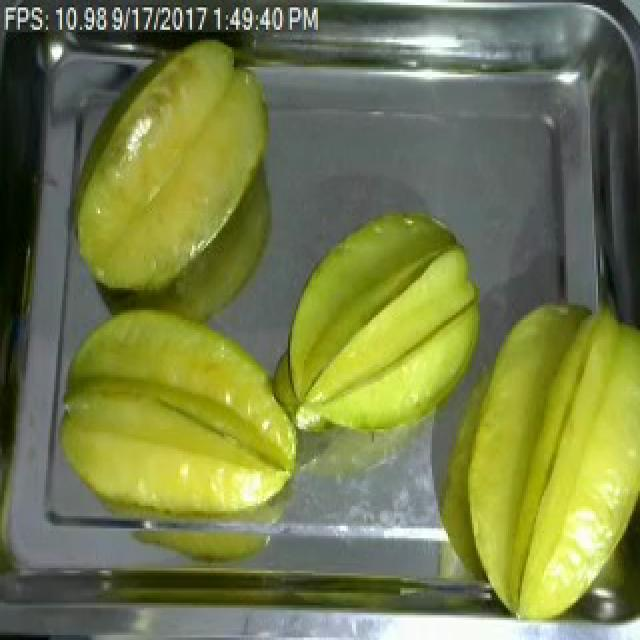fruit: (450, 293, 640, 630), (46, 293, 310, 533), (62, 30, 286, 312), (274, 196, 494, 439)
